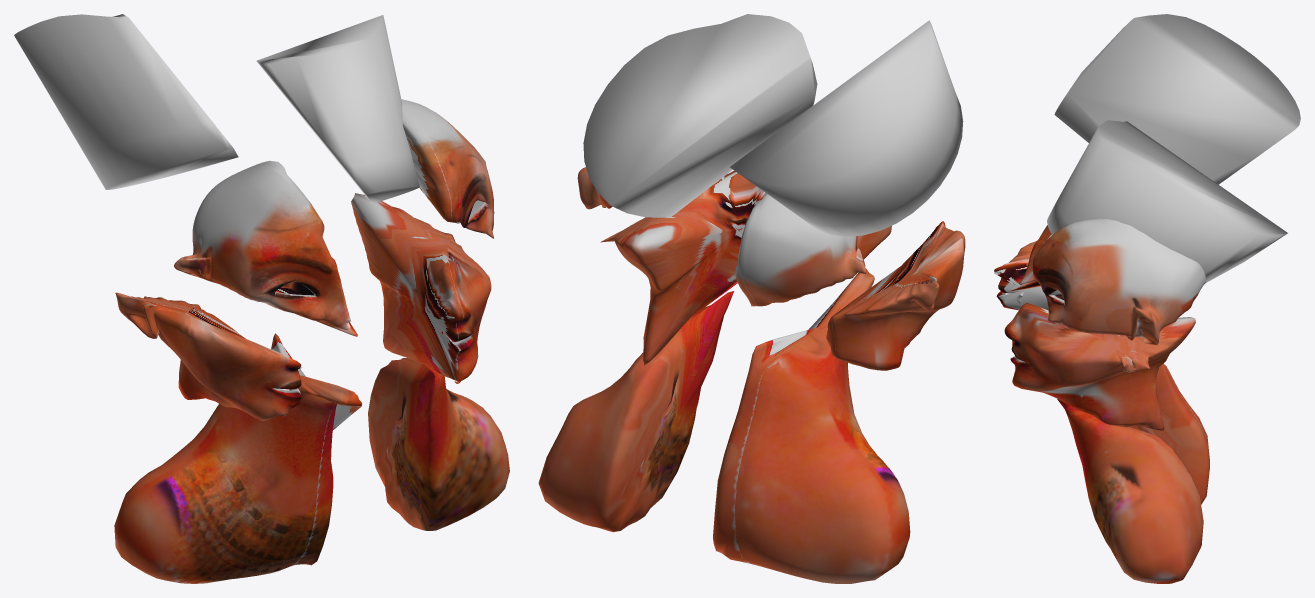
File: nefertityyymet2asem.fbx
3 views of the same model, side by side, from view 1: azimuth 30°, elevation 25°; view 2: azimuth 150°, elevation 25°; view 3: azimuth 270°, elevation 25° (orthographic). The views are drawn at different scales.
Visible parts, largest first — view 1: Cube.004, Cylinder, Cube.005, Cube.003, Cylinder.001, Cube.001, Cube, Cube.002; view 2: Cube.004, Cylinder.001, Cylinder, Cube.005, Cube.001, Cube, Cube.003, Cube.002; view 3: Cylinder, Cylinder.001, Cube.005, Cube.002, Cube.001, Cube.004, Cube, Cube.003.
Part boxes in pixels (x1,y1,x2,y2): Cube.004: (114,333,362,583); Cylinder: (14,14,238,189); Cube.005: (368,358,509,530); Cube.003: (174,160,357,336); Cylinder.001: (256,15,419,203); Cube.001: (351,193,491,382); Cube: (115,292,301,420); Cube.002: (401,99,494,238); Cube.004: (713,268,910,583); Cylinder.001: (583,14,817,217); Cylinder: (730,20,963,236); Cube.005: (538,291,733,532); Cube.001: (600,170,765,365); Cube: (826,221,965,370); Cube.003: (735,193,891,306); Cube.002: (577,167,612,209); Cylinder: (1054,14,1300,184); Cylinder.001: (1047,120,1287,282); Cube.005: (1057,398,1203,583); Cube.002: (1032,218,1206,345); Cube.001: (1004,302,1195,430); Cube.004: (1012,340,1209,504); Cube: (994,240,1048,310); Cube.003: (1010,225,1051,291).
Bounding box in the file's own units: 365 × 483 × 305.
